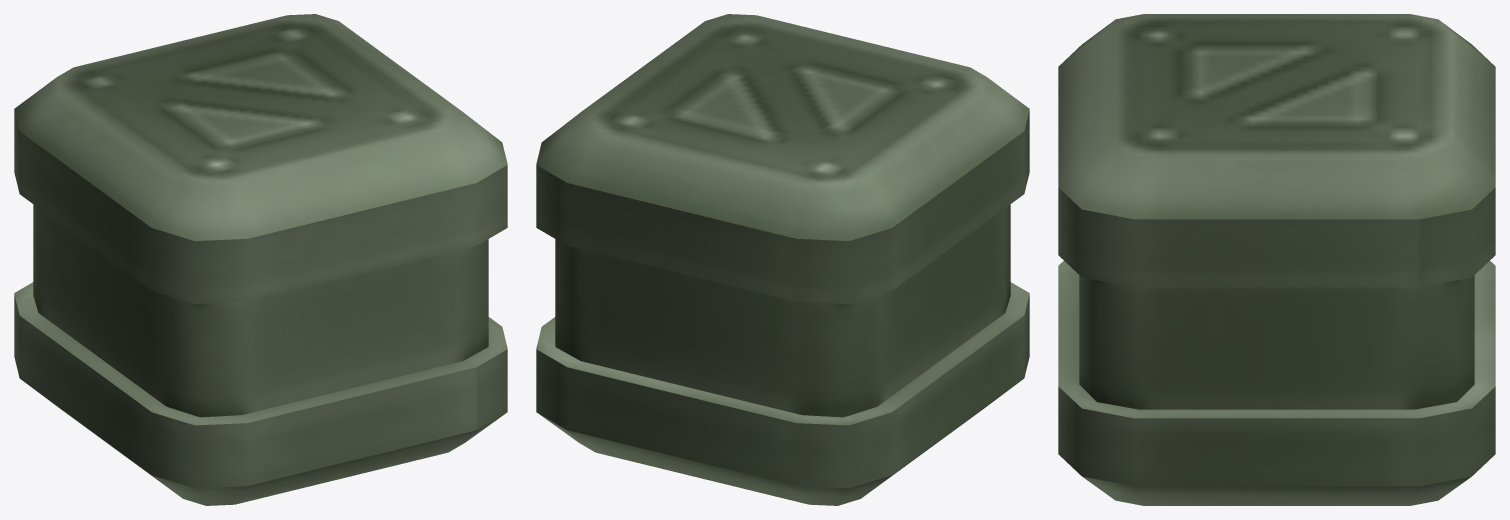
Rendered from Box_Green.FBX.
The picture shows the model from 3 angles, left to right: view 1: azimuth 30°, elevation 25°; view 2: azimuth 150°, elevation 25°; view 3: azimuth 270°, elevation 25°; orthographic projection. The views are drawn at different scales.
Parts seen in each view (by area): view 1: Box_Green; view 2: Box_Green; view 3: Box_Green.
Boxes of the visible parts, box(x1,y1,x2,y2) form: Box_Green: box(14, 14, 507, 505); Box_Green: box(536, 14, 1029, 505); Box_Green: box(1058, 14, 1495, 505).
Bounding box in the file's own units: 248 × 216 × 248.
